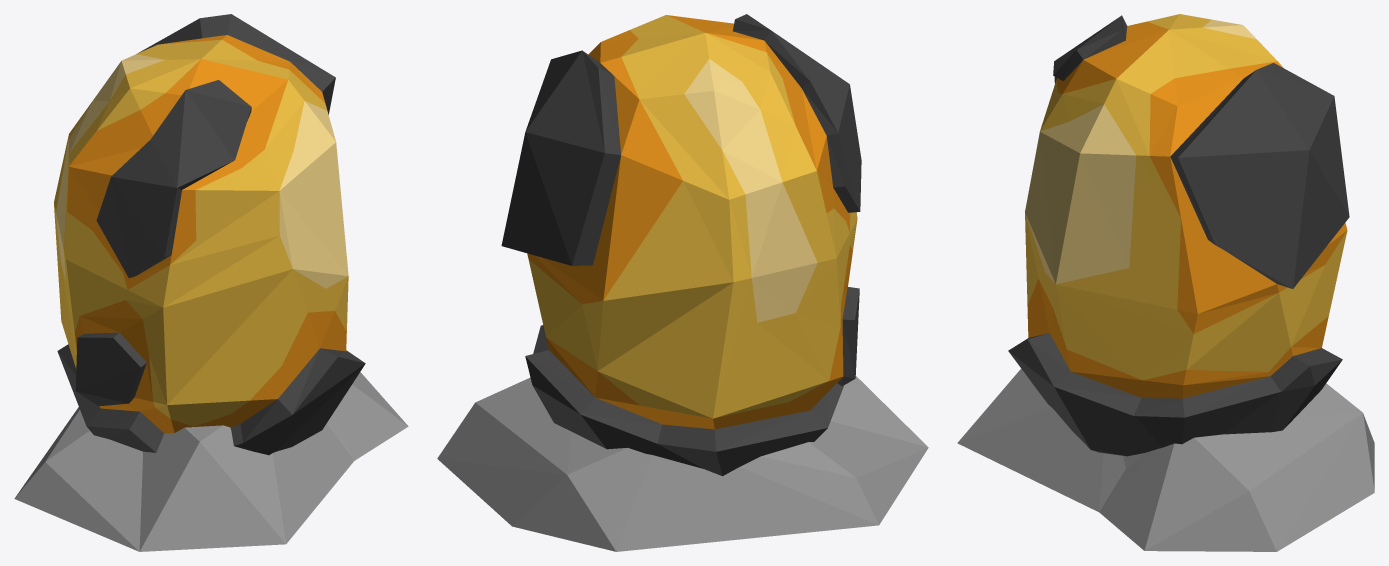
File: Stone_Yellow_A_04.FBX
3 views of the same model, side by side, from view 1: azimuth 30°, elevation 25°; view 2: azimuth 150°, elevation 25°; view 3: azimuth 270°, elevation 25° (orthographic). The views are drawn at different scales.
Parts seen in each view (by area): view 1: Stone_Yellow_A_04; view 2: Stone_Yellow_A_04; view 3: Stone_Yellow_A_04.
Boxes of the visible parts, x1,y1,x2,y2 form: Stone_Yellow_A_04: (14, 14, 408, 551); Stone_Yellow_A_04: (437, 14, 928, 551); Stone_Yellow_A_04: (957, 14, 1374, 551).
Size of the model in its own units: 2.97 by 3.11 by 2.78.
